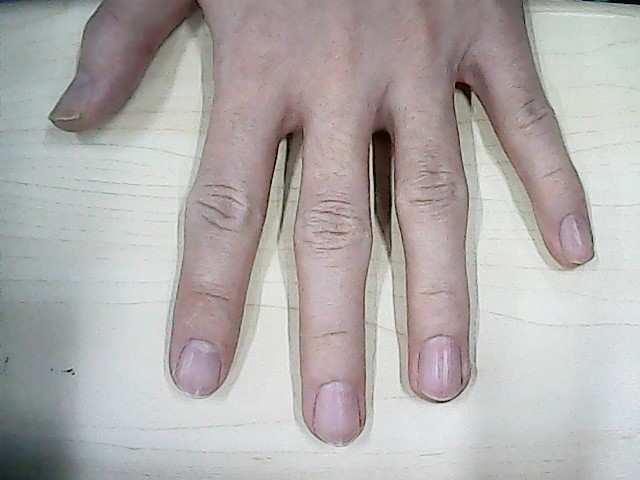nail: (416, 333, 465, 402), (175, 336, 223, 401), (315, 379, 361, 444), (556, 210, 595, 266), (48, 73, 89, 125)
